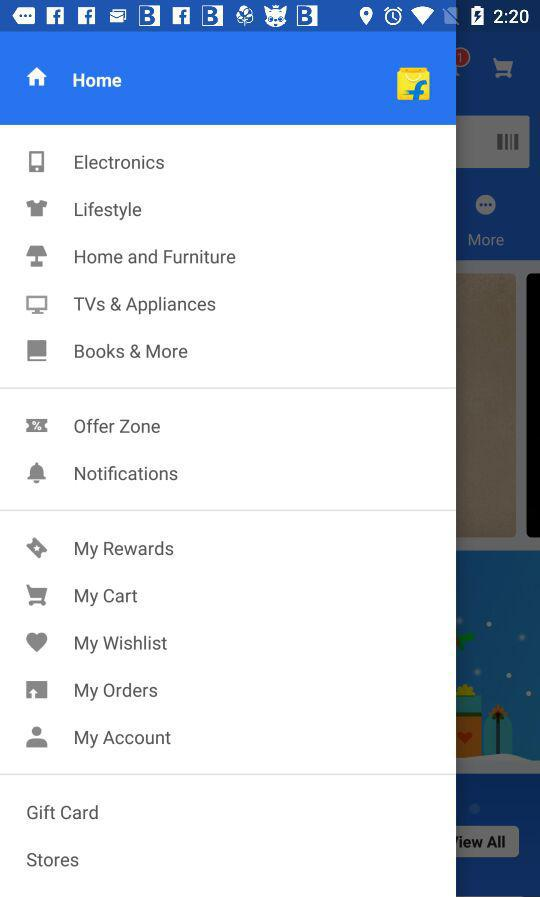Drawer: (1, 33, 456, 897)
Icon: (396, 67, 431, 101), (26, 726, 49, 749), (26, 680, 49, 703), (26, 584, 49, 607), (26, 632, 49, 654), (27, 340, 49, 363), (27, 537, 49, 559), (26, 67, 49, 88), (27, 462, 48, 484), (26, 419, 49, 433)
Image: (26, 246, 49, 268), (26, 296, 49, 315), (26, 200, 49, 218), (29, 151, 46, 174)
Text: (74, 296, 217, 316), (75, 249, 237, 266), (75, 540, 175, 560), (75, 343, 189, 360), (75, 635, 169, 655), (75, 730, 173, 749), (75, 682, 159, 702), (75, 466, 179, 482), (74, 418, 161, 435), (75, 155, 166, 171), (75, 201, 143, 222), (75, 588, 139, 607), (27, 804, 100, 820), (27, 852, 80, 868), (73, 73, 123, 89)
UpperTaskBar: (1, 1, 540, 33)
